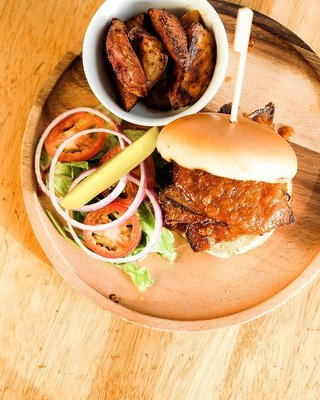salad: (225, 7, 254, 123)
soup: (154, 106, 298, 257)
sushi: (81, 0, 231, 129)
